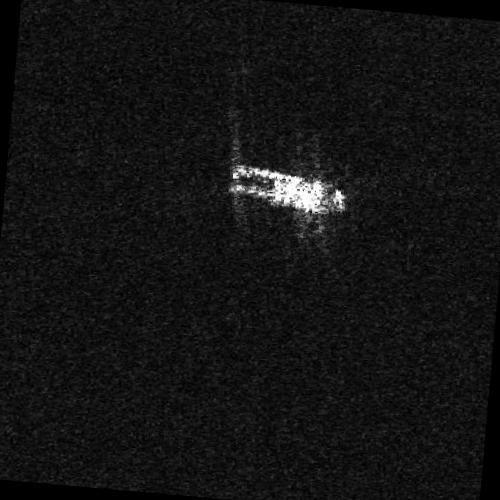ship: (229, 164, 348, 214)
